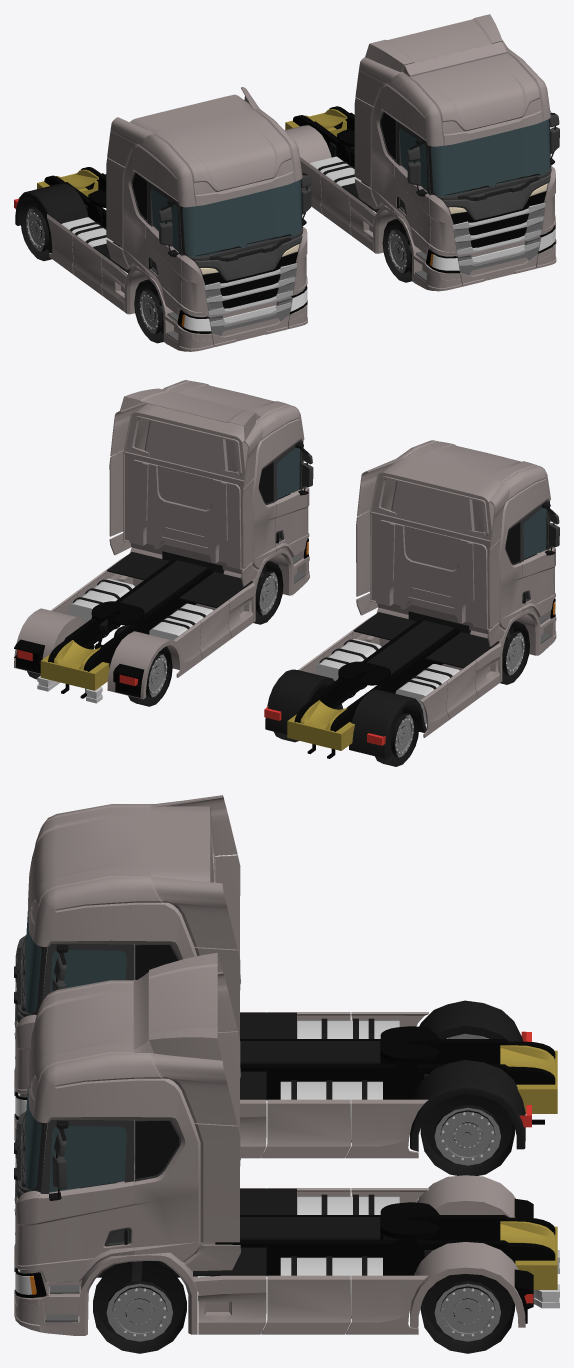
File: truck.glb
3 renders of one model, top to bottom at view 1: azimuth 30°, elevation 25°; view 2: azimuth 150°, elevation 25°; view 3: azimuth 270°, elevation 25°, orthographic. The views are drawn at different scales.
Visible parts, largest first — view 1: Body, Body.001, Vert.022, Vert.041, Vert.035, Chassis, Chassis.001, Chassis.004, Chassis.002, Cube.008, Vert.002, Vert (+42 smaller); view 2: Body.004, Body.007, Body, Body.001, Plane.013, Plane.001, Chassis.006, Chassis.004, Chassis.002, Cube.018, Cube.010, Cube.008 (+31 smaller); view 3: Body.001, Body, Chassis.002, Chassis.004, Circle.022, Chassis.006, Cube.018, Vert.035, Cube.010, Vert.033, Plane.013, Circle.041 (+28 smaller).
Boxes of the visible parts, bbox=[...] form: Body: bbox=[120, 94, 307, 315]; Body.001: bbox=[368, 48, 555, 254]; Vert.022: bbox=[182, 179, 301, 257]; Vert.041: bbox=[431, 119, 550, 196]; Vert.035: bbox=[365, 14, 502, 72]; Chassis: bbox=[125, 266, 307, 351]; Chassis.001: bbox=[373, 205, 556, 291]; Chassis.004: bbox=[47, 214, 127, 311]; Chassis.002: bbox=[300, 157, 375, 251]; Cube.008: bbox=[15, 183, 88, 251]; Vert.002: bbox=[442, 174, 550, 220]; Vert: bbox=[194, 234, 302, 280]; Body.004: bbox=[123, 412, 246, 569]; Body.007: bbox=[370, 472, 492, 630]; Body: bbox=[377, 440, 555, 634]; Body.001: bbox=[131, 380, 309, 573]; Plane.013: bbox=[107, 552, 252, 614]; Plane.001: bbox=[353, 612, 499, 674]; Chassis.006: bbox=[14, 608, 182, 699]; Chassis.004: bbox=[298, 615, 501, 737]; Chassis.002: bbox=[51, 555, 254, 677]; Cube.018: bbox=[48, 560, 212, 671]; Cube.010: bbox=[294, 620, 459, 731]; Cube.008: bbox=[349, 689, 426, 758]; Body.001: bbox=[14, 980, 215, 1282]; Body: bbox=[14, 804, 214, 1093]; Chassis.002: bbox=[192, 1188, 428, 1334]; Chassis.004: bbox=[240, 1012, 428, 1158]; Circle.022: bbox=[93, 1261, 514, 1353]; Chassis.006: bbox=[410, 1175, 525, 1328]; Cube.018: bbox=[215, 1215, 555, 1275]; Vert.035: bbox=[149, 952, 222, 1060]; Cube.010: bbox=[240, 1039, 555, 1099]; Vert.033: bbox=[194, 1031, 240, 1242]; Plane.013: bbox=[193, 1188, 380, 1276]; Circle.041: bbox=[106, 1283, 500, 1341].
Size of the model in its own units: 14.24 by 7.45 by 11.61.
